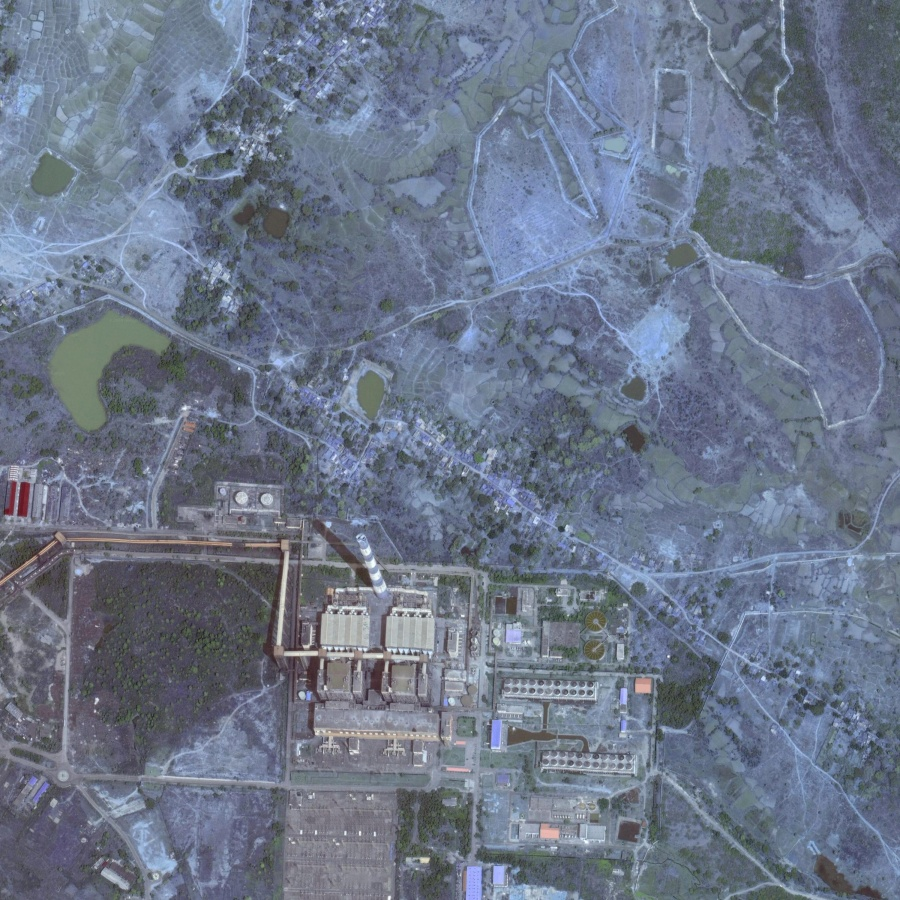PowerPlant: (287, 494, 441, 627)
